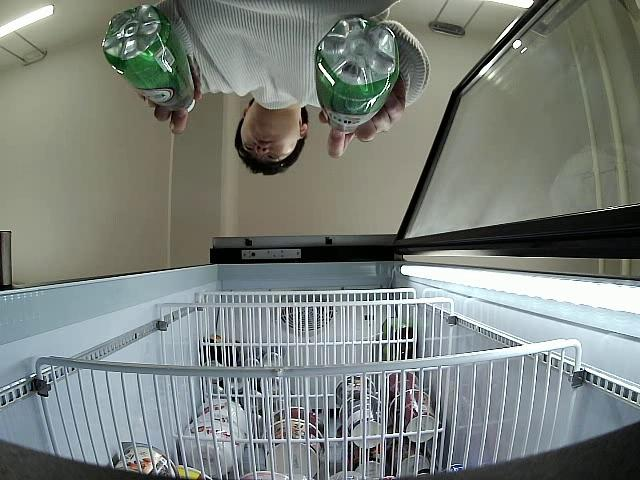00_hand: (320, 89, 403, 157), (153, 76, 202, 135)
19_17cha: (313, 13, 401, 133), (103, 5, 196, 116)
